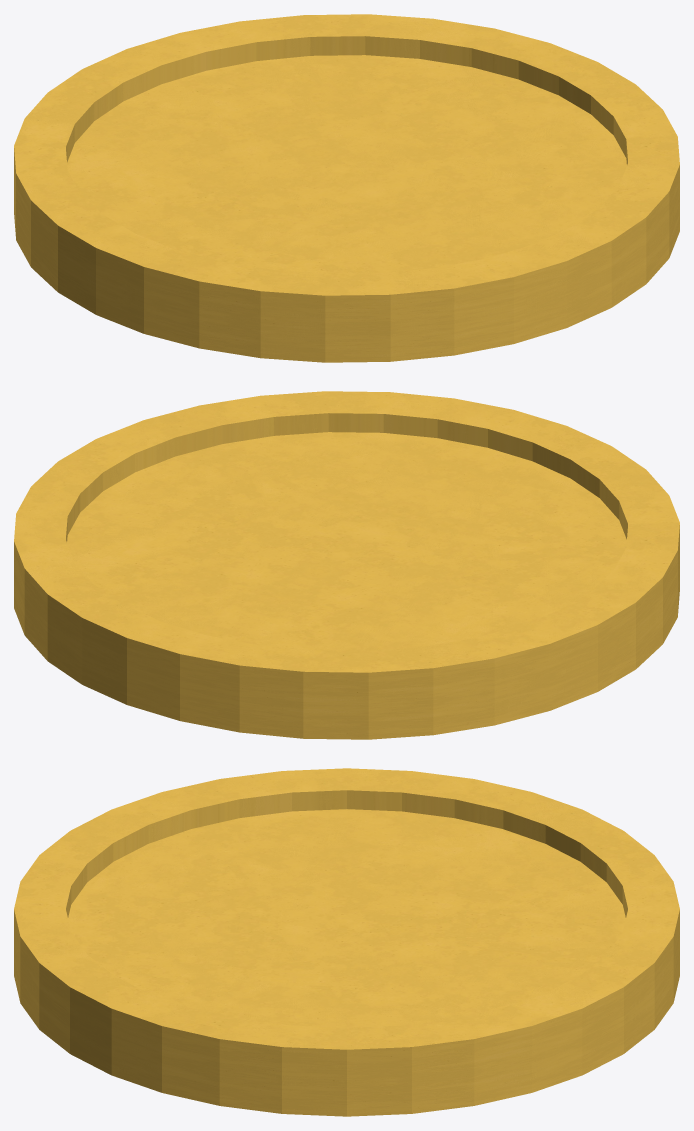
File: GoldCoin.fbx
3 views of the same model, one above another, from view 1: azimuth 30°, elevation 25°; view 2: azimuth 150°, elevation 25°; view 3: azimuth 270°, elevation 25° (orthographic).
Visible parts, largest first — view 1: Cylinder; view 2: Cylinder; view 3: Cylinder.
Boxes of the visible parts, x1,y1,x2,y2 form: Cylinder: (14,14,679,362); Cylinder: (14,391,679,739); Cylinder: (14,768,679,1116).
Bounding box in the file's own units: 200 × 22.16 × 200.
Materials: 1 (1 with a texture image).
